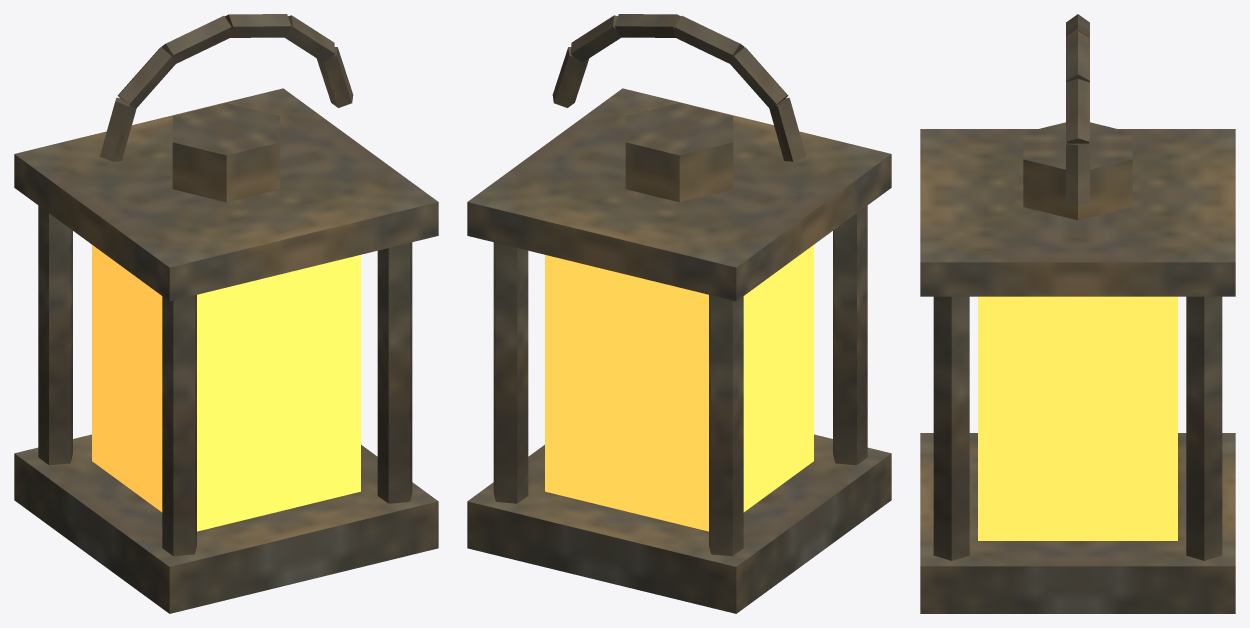
The model's file is lantern_hand_r2.glb.
3 views of the same model, side by side, from view 1: azimuth 30°, elevation 25°; view 2: azimuth 150°, elevation 25°; view 3: azimuth 270°, elevation 25° (orthographic).
Bounding box in the file's own units: 0.15 × 0.2714 × 0.15.
2 materials, 1 textured.
